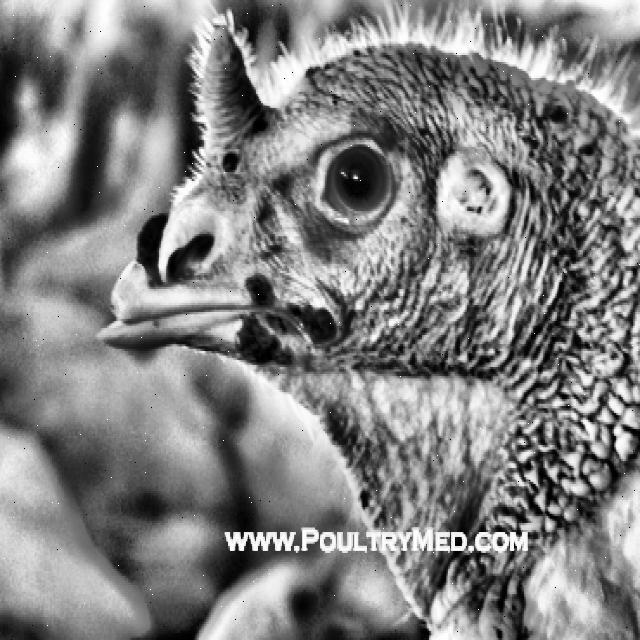Fowlpox: (126, 196, 344, 396)
